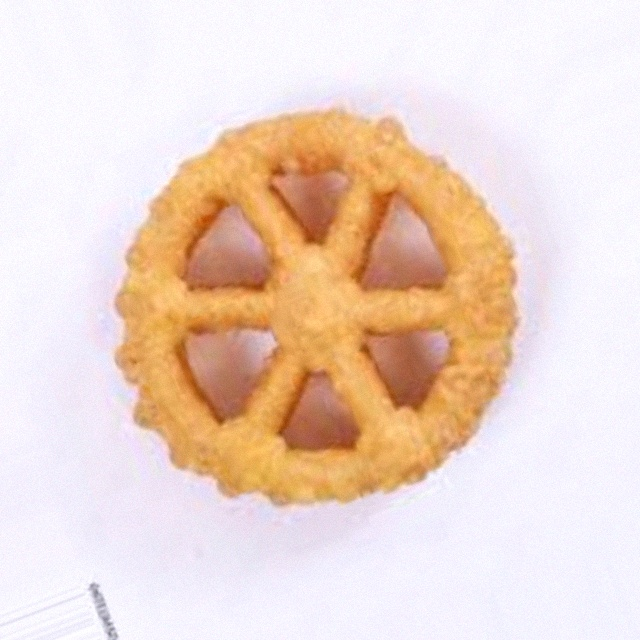Kokis: (99, 84, 541, 556)
